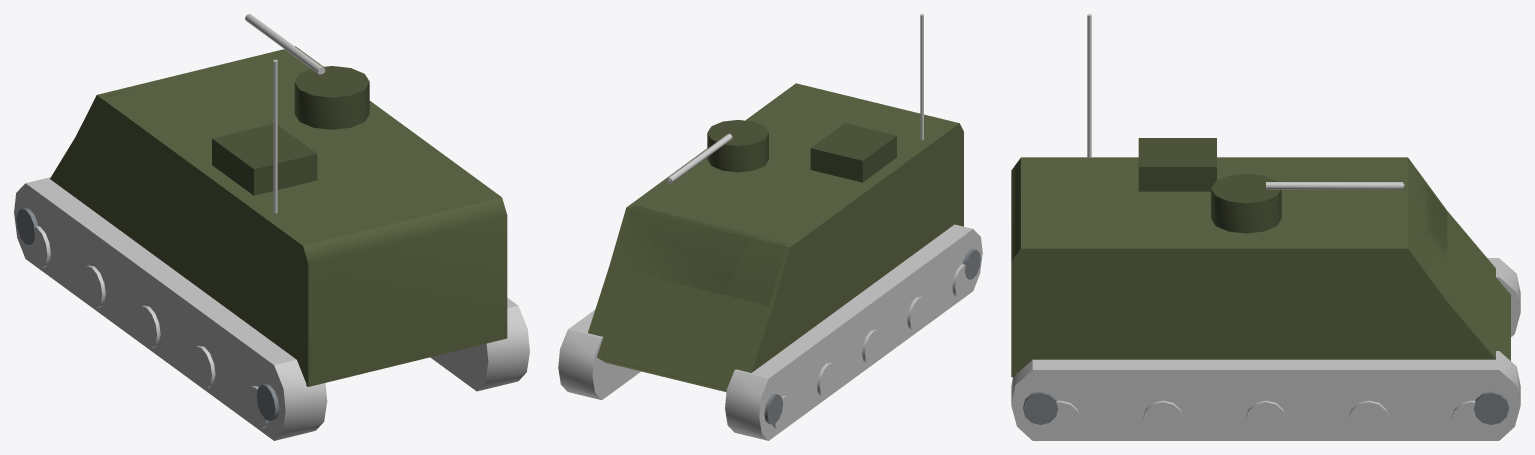
3 views of the same model, side by side, from view 1: azimuth 30°, elevation 25°; view 2: azimuth 150°, elevation 25°; view 3: azimuth 270°, elevation 25° (orthographic). The views are drawn at different scales.
Visible parts, largest first — view 1: model; view 2: model; view 3: model.
Part boxes in pixels (x1,y1,x2,y2): model: [14, 14, 529, 440]; model: [558, 14, 982, 440]; model: [1011, 14, 1520, 440].
Bounding box in the file's own units: 2.79 × 3.7 × 5.2.
